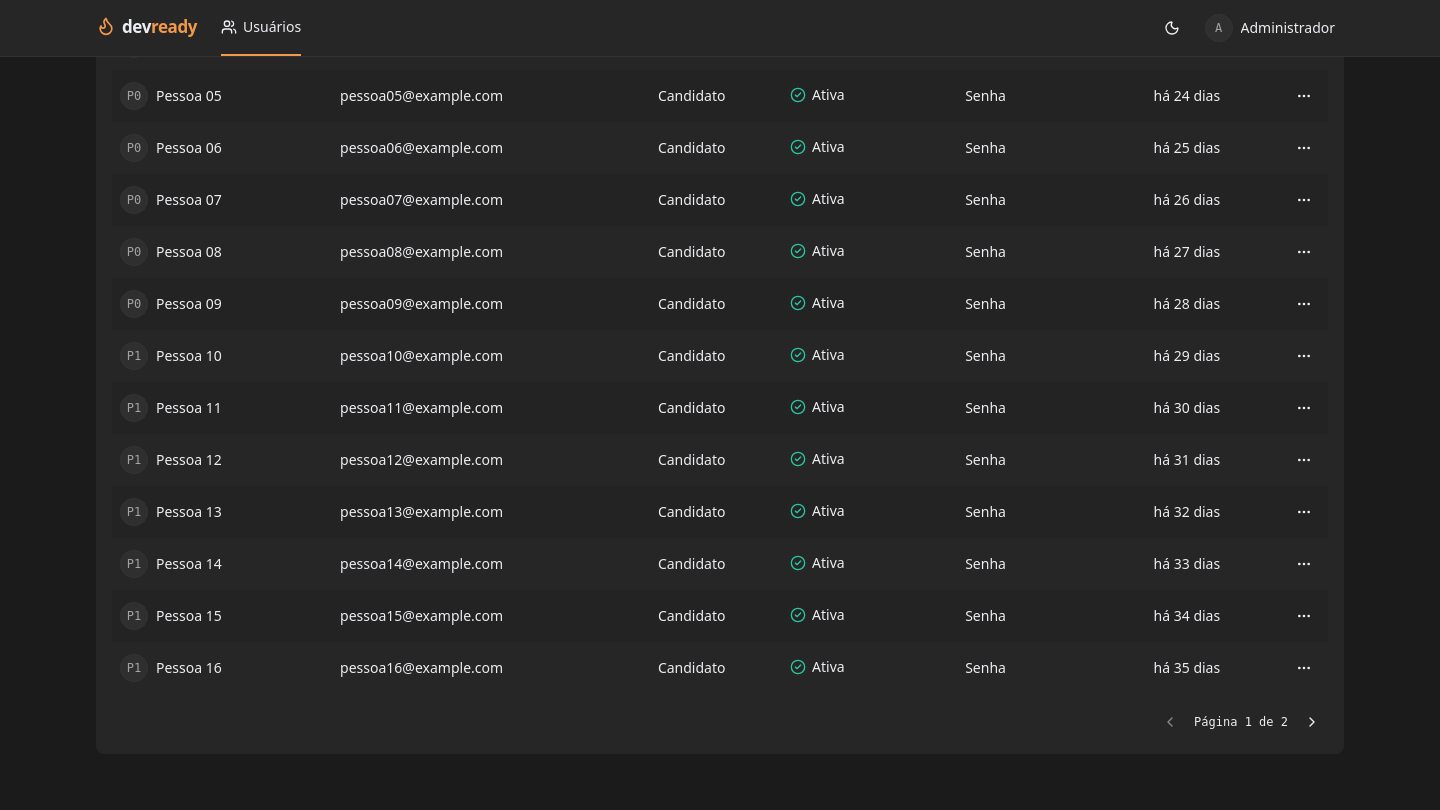
AdminUsersPage › lista 20 por página, do cadastro mais novo, e a própria conta sem ações
(page scrolled)
Expected: the text "Página 1 de 2" is shown, 1194,714 -> 1288,730
Click the button named "Próxima página".
click(1312, 722)  # box 1296,706 -> 1328,738
(page scrolled)
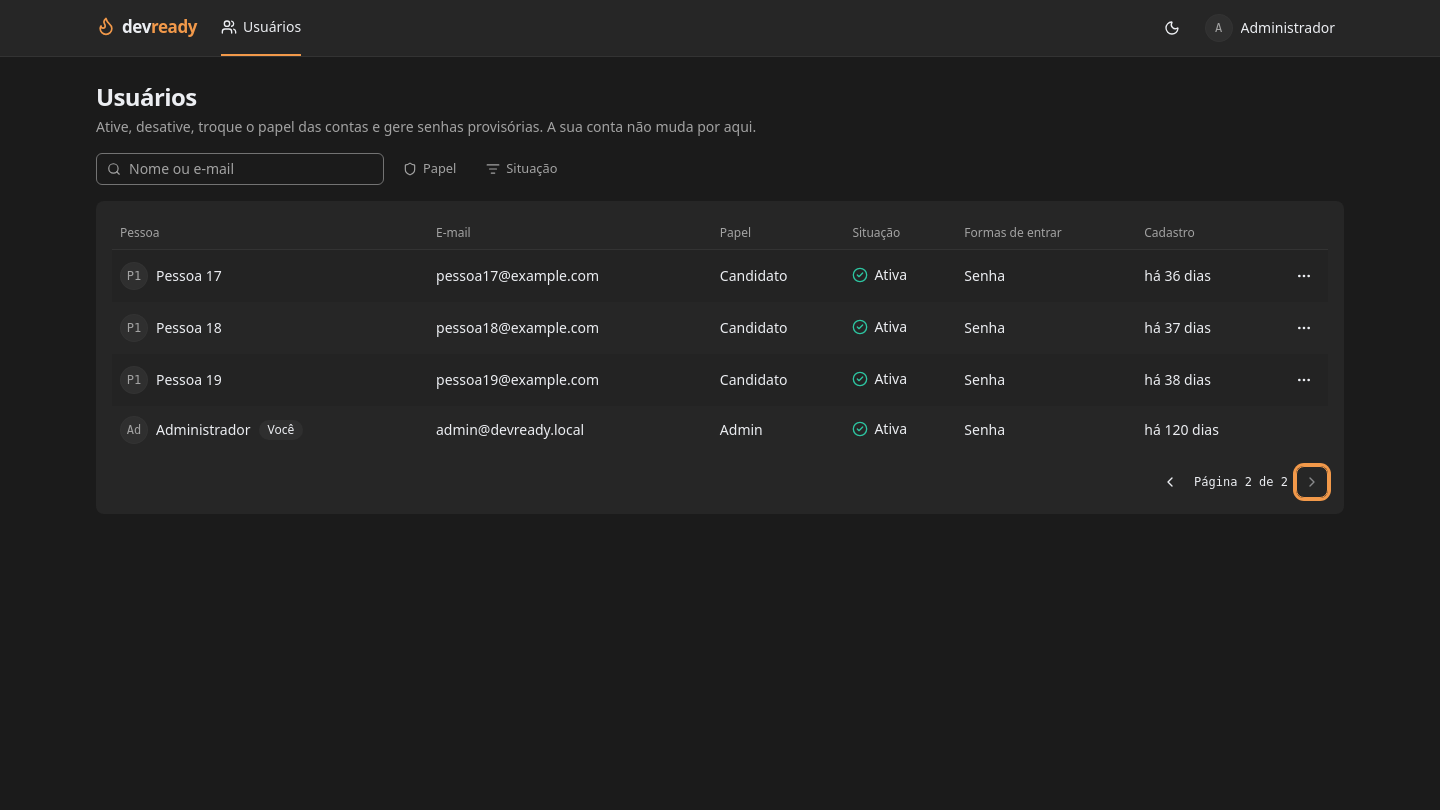
Now the icon "Você" is shown, box 258,420 -> 303,440
